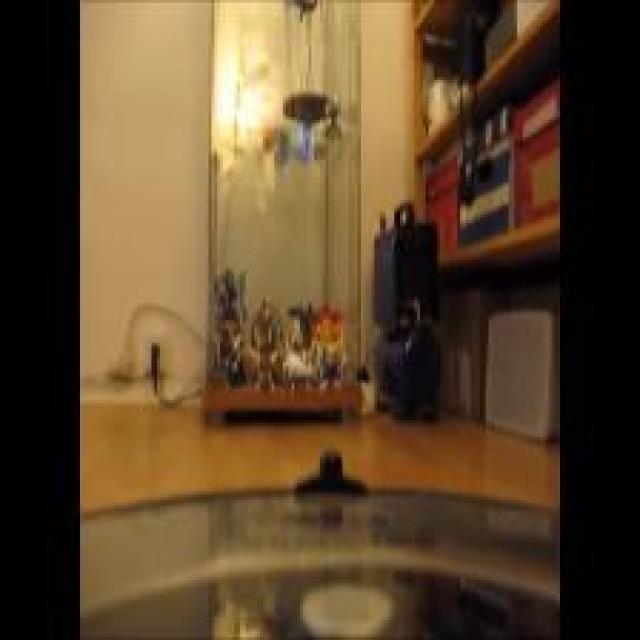other: (206, 30, 284, 186)
